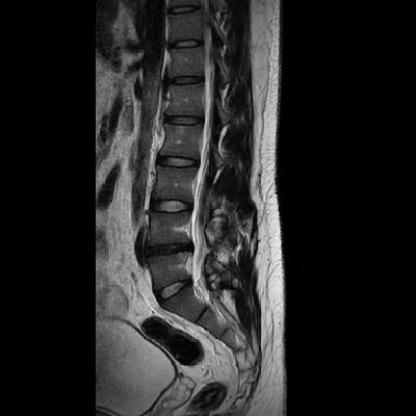Disc Bulgerotation: (146, 241, 194, 262)
